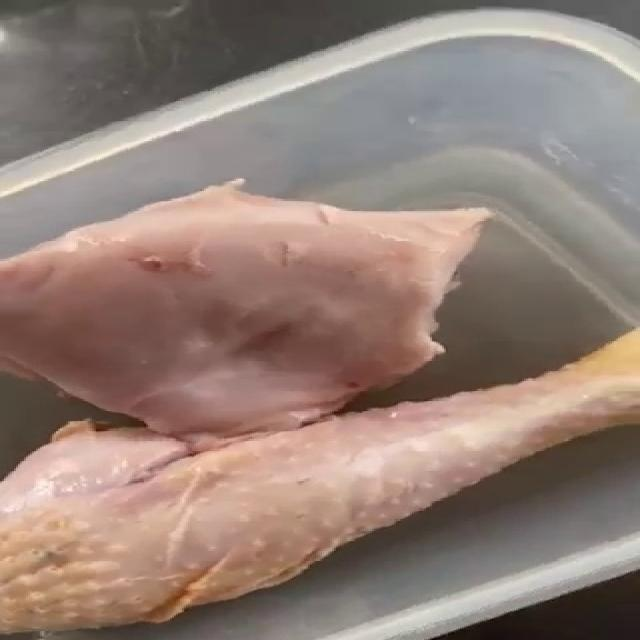chicken: (0, 183, 640, 640)
